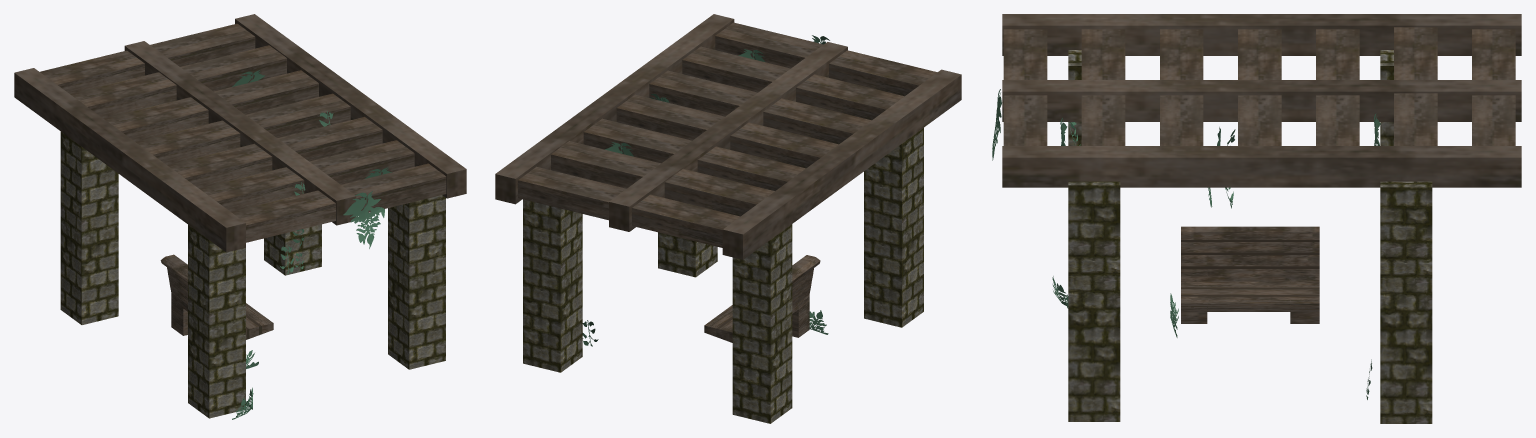
File: benchplace.fbx
3 views of the same model, side by side, from view 1: azimuth 30°, elevation 25°; view 2: azimuth 150°, elevation 25°; view 3: azimuth 270°, elevation 25° (orthographic). The views are drawn at different scales.
Parts seen in each view (by area): view 1: Vertical_Pole, Rock_pole, Horizontal_Pole, Vegetation, Bench; view 2: Vertical_Pole, Rock_pole, Horizontal_Pole, Bench, Vegetation; view 3: Horizontal_Pole, Vertical_Pole, Rock_pole, Bench, Vegetation.
Part boxes in pixels (bbox=[...]): Vertical_Pole: bbox=[40, 23, 446, 242]; Rock_pole: bbox=[60, 131, 445, 418]; Horizontal_Pole: bbox=[14, 14, 466, 252]; Vegetation: bbox=[232, 70, 391, 419]; Bench: bbox=[160, 254, 273, 339]; Vertical_Pole: bbox=[518, 22, 937, 247]; Rock_pole: bbox=[523, 128, 923, 423]; Horizontal_Pole: bbox=[495, 14, 961, 259]; Bench: bbox=[704, 255, 820, 342]; Vegetation: bbox=[582, 35, 829, 346]; Horizontal_Pole: bbox=[1002, 14, 1521, 187]; Vertical_Pole: bbox=[1003, 27, 1515, 145]; Rock_pole: bbox=[1068, 50, 1432, 423]; Bench: bbox=[1181, 226, 1319, 323]; Vegetation: bbox=[992, 89, 1380, 399].
Size of the model in its own units: 1360 by 1150 by 2042.
1 material, 1 textured.
